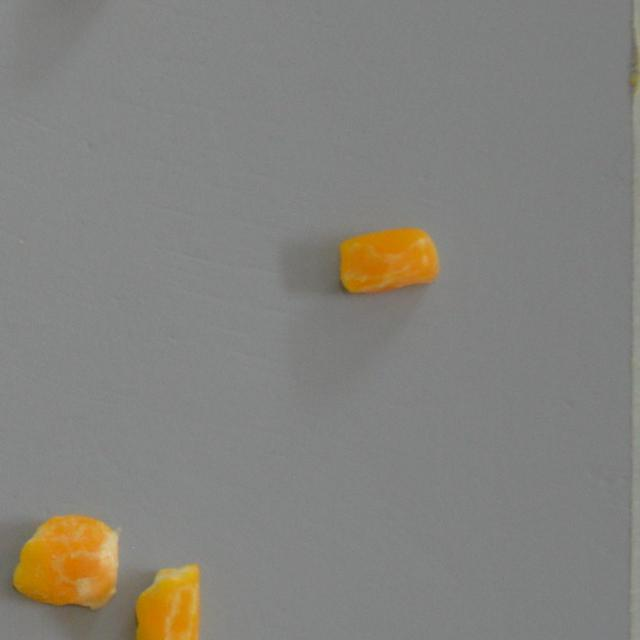pelicula: (8, 490, 120, 612), (326, 224, 441, 298), (129, 558, 214, 640)
